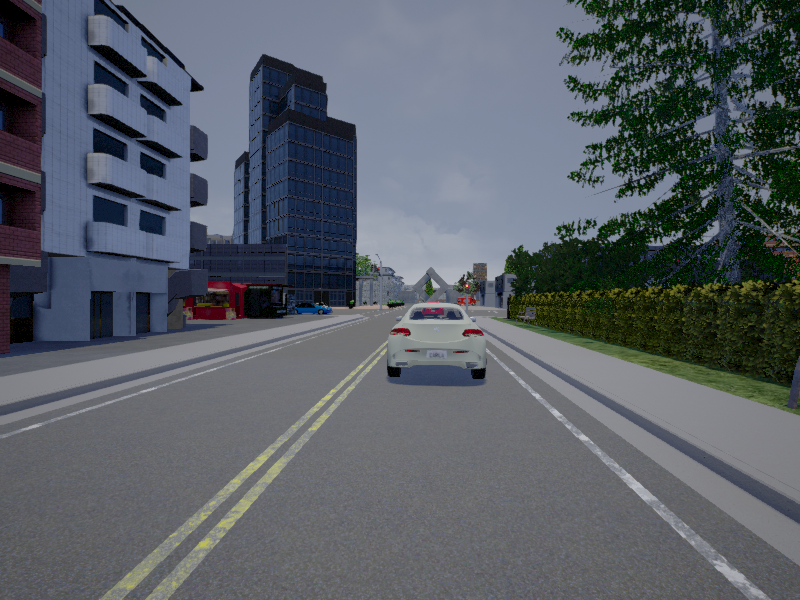Benign: (387, 304, 486, 381), (294, 301, 331, 316)
